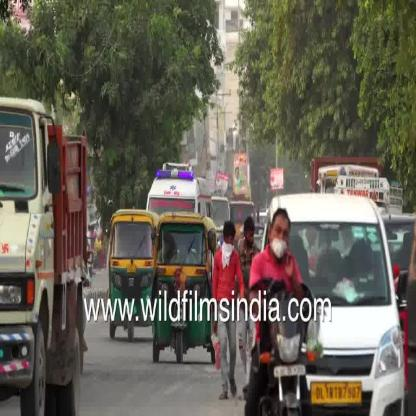priority: (139, 155, 214, 213)
